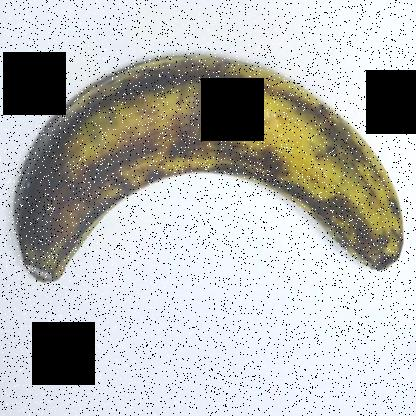overripe: (7, 28, 412, 312)
rotten: (5, 128, 98, 298)
